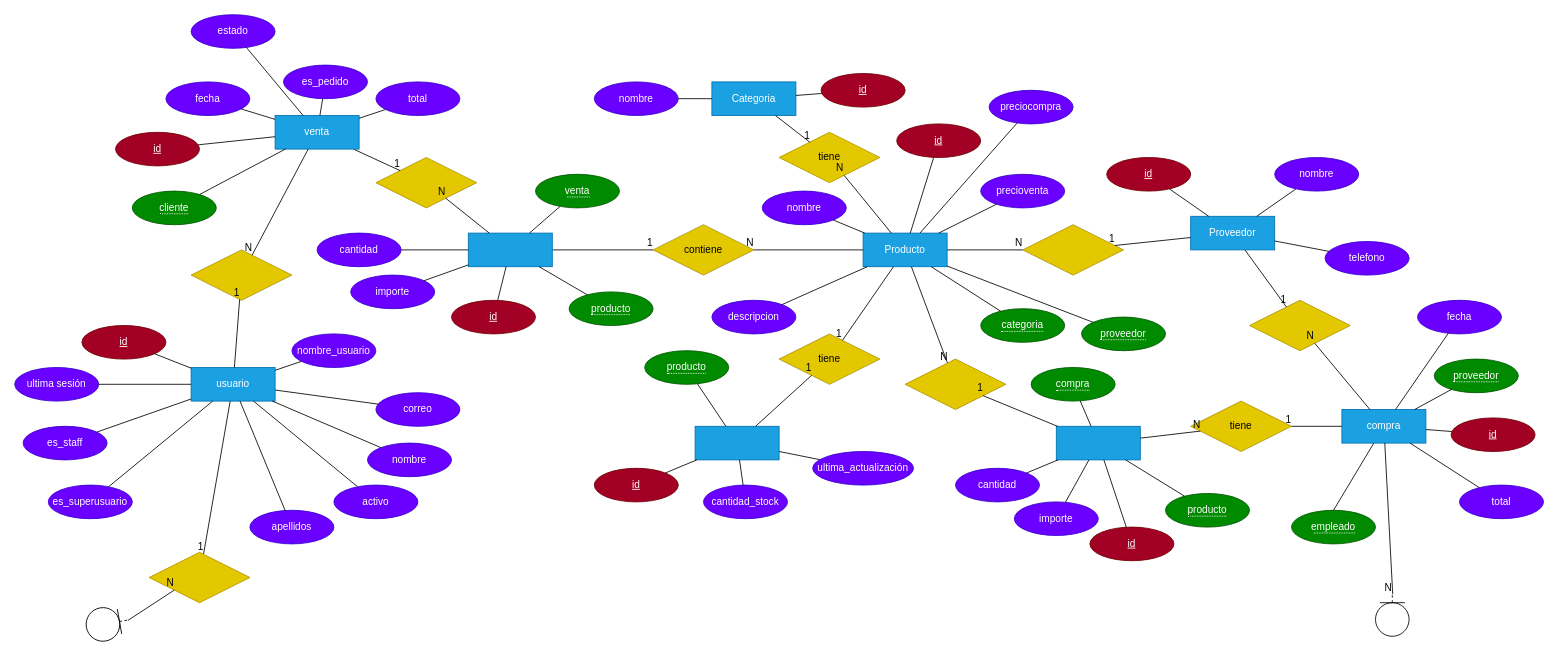
Some shapes in this 1558 by 659 pixel diagram are drawn without their labels. Each missing label, with the box of its shape:
detalle_compra: (1055, 425, 1140, 460)
detalle_venta: (467, 232, 552, 267)
incluye: (904, 358, 1006, 410)
Inventario: (694, 425, 779, 460)
pertenecen: (375, 157, 477, 208)
provee: (1022, 224, 1124, 275)
realiza: (148, 551, 250, 603)
solicita: (190, 249, 292, 300)
suministra: (1249, 299, 1350, 351)
